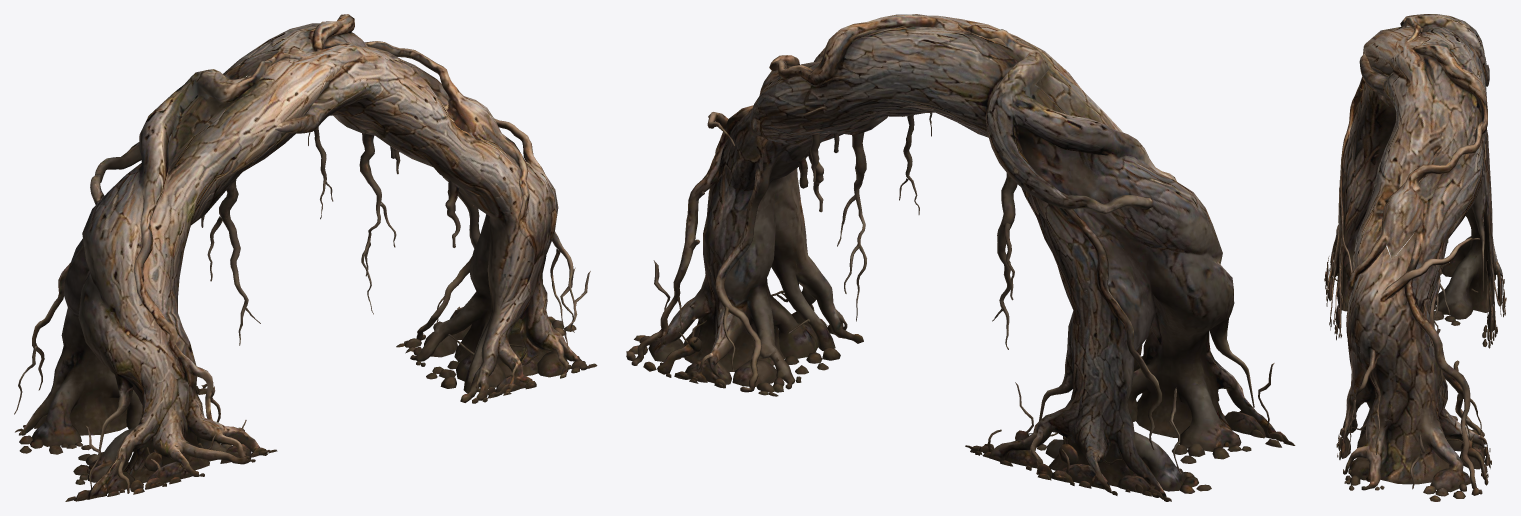
Rendered from act1-a25-1-root-rib-arch-slim.glb.
3 renders of one model, left to right at view 1: azimuth 30°, elevation 25°; view 2: azimuth 150°, elevation 25°; view 3: azimuth 270°, elevation 25°, orthographic. The views are drawn at different scales.
Visible parts, largest first — view 1: act1-a25-1-root-rib-arch-slim; view 2: act1-a25-1-root-rib-arch-slim; view 3: act1-a25-1-root-rib-arch-slim.
Part boxes in pixels (left/top/right/bottom): act1-a25-1-root-rib-arch-slim: left=14, top=14, right=597, bottom=501; act1-a25-1-root-rib-arch-slim: left=626, top=14, right=1295, bottom=501; act1-a25-1-root-rib-arch-slim: left=1324, top=14, right=1506, bottom=501.
Size of the model in its own units: 6.5 by 4.05 by 1.94.
Materials: 1 (1 with a texture image).
